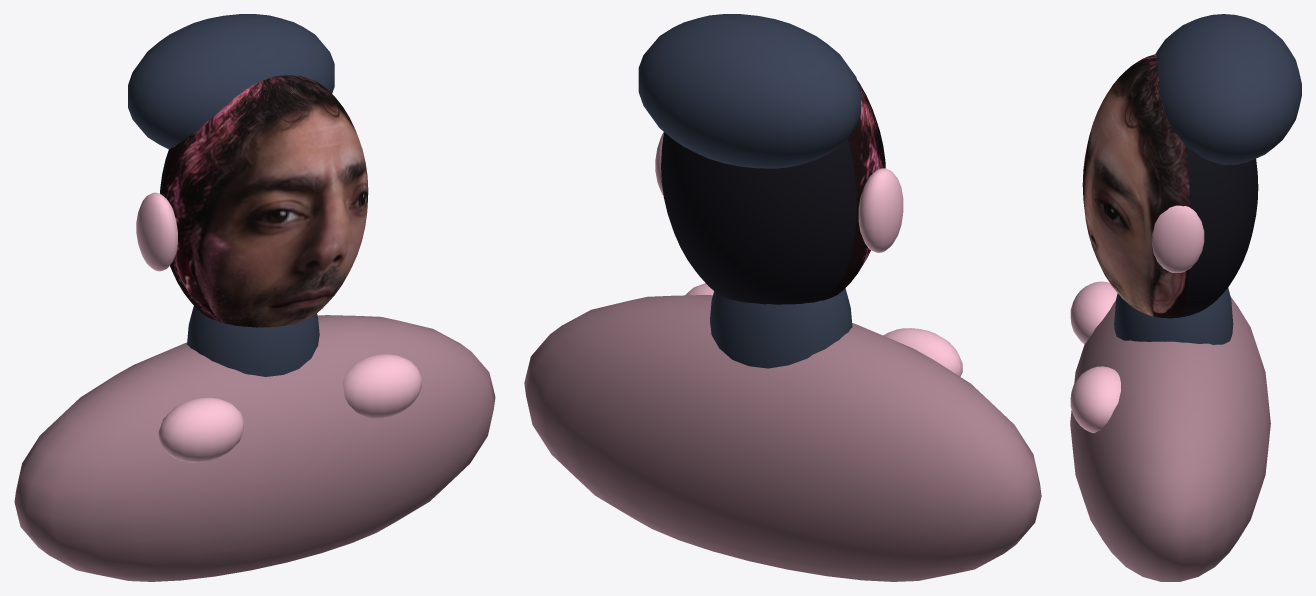
Rendered from performer.glb.
3 renders of one model, left to right at view 1: azimuth 30°, elevation 25°; view 2: azimuth 150°, elevation 25°; view 3: azimuth 270°, elevation 25°, orthographic. The views are drawn at different scales.
Bounding box in the file's own units: 1.69 × 1.7 × 0.7386.
4 materials, 1 textured.
